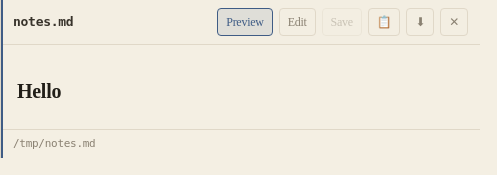
Test: DocumentPanel — Copy File Content › copies the file content to the clipboard
The image size is (497, 175).
Click the button named "复制文件内容": (384, 22) [368,8,400,36]
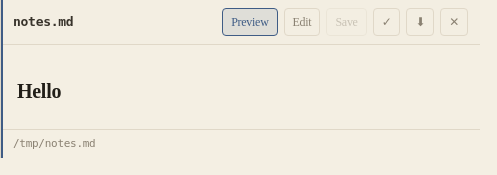
Expected: the button "✓" is shown, [373,8,400,36]
